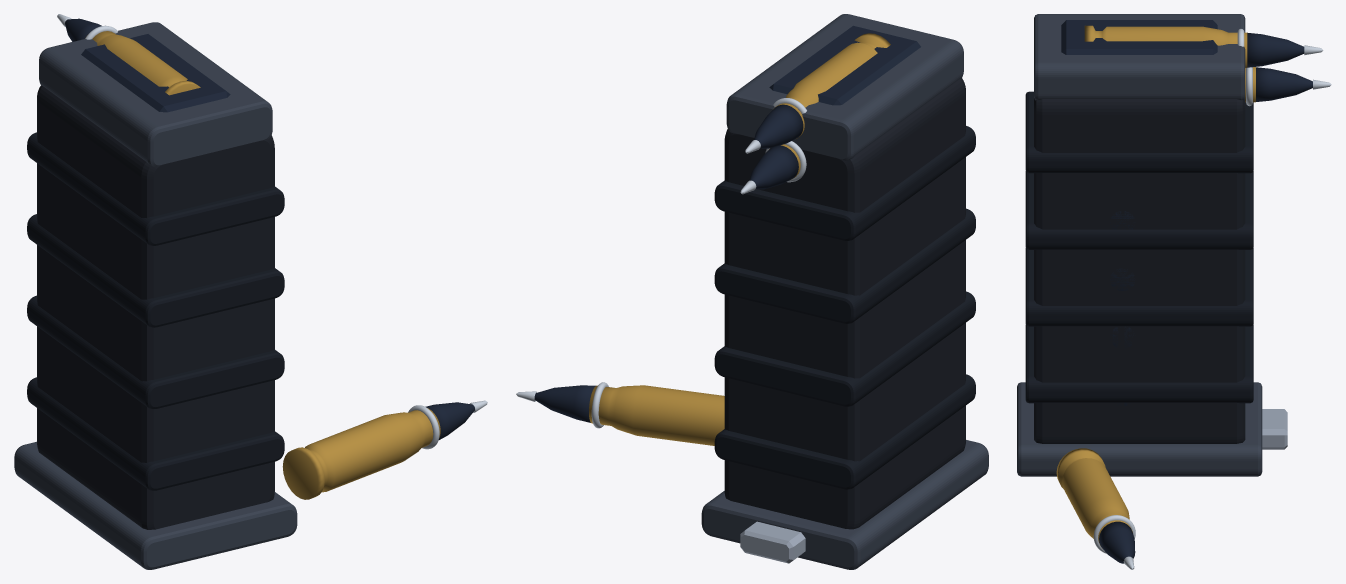
File: ammo_ap.glb
3 renders of one model, left to right at view 1: azimuth 30°, elevation 25°; view 2: azimuth 150°, elevation 25°; view 3: azimuth 270°, elevation 25°, orthographic. The views are drawn at different scales.
Visible parts, largest first — view 1: ammo_ap_mag, ammo_ap_lips, ammo_ap_base, ammo_ap_loose_case, ammo_ap_rib2, ammo_ap_rib0, ammo_ap_rib1, ammo_ap_rib3, ammo_ap_lip_cut, ammo_ap_top_case, ammo_ap_loose_tip; view 2: ammo_ap_mag, ammo_ap_lips, ammo_ap_base, ammo_ap_rib2, ammo_ap_rib0, ammo_ap_rib1, ammo_ap_rib3, ammo_ap_loose_case, ammo_ap_lip_cut, ammo_ap_top_case, ammo_ap_base_tab, ammo_ap_top_tip (+2 smaller); view 3: ammo_ap_mag, ammo_ap_lips, ammo_ap_base, ammo_ap_rib0, ammo_ap_rib1, ammo_ap_rib2, ammo_ap_rib3, ammo_ap_loose_case, ammo_ap_lip_cut, ammo_ap_top_case, ammo_ap_top_tip, ammo_ap_second_tip (+3 smaller).
Part boxes in pixels (bbox=[...]): ammo_ap_mag: bbox=[37, 86, 274, 529]; ammo_ap_lips: bbox=[39, 22, 272, 166]; ammo_ap_base: bbox=[14, 441, 297, 569]; ammo_ap_loose_case: bbox=[282, 408, 440, 499]; ammo_ap_rib2: bbox=[27, 214, 284, 327]; ammo_ap_rib0: bbox=[27, 377, 284, 490]; ammo_ap_rib1: bbox=[27, 295, 284, 409]; ammo_ap_rib3: bbox=[27, 132, 284, 245]; ammo_ap_lip_cut: bbox=[81, 34, 230, 112]; ammo_ap_top_case: bbox=[85, 31, 200, 95]; ammo_ap_loose_tip: bbox=[425, 402, 474, 439]; ammo_ap_mag: bbox=[724, 78, 965, 529]; ammo_ap_lips: bbox=[726, 14, 963, 160]; ammo_ap_base: bbox=[701, 440, 988, 569]; ammo_ap_rib2: bbox=[714, 208, 975, 323]; ammo_ap_rib0: bbox=[714, 374, 975, 489]; ammo_ap_rib1: bbox=[714, 291, 975, 406]; ammo_ap_rib3: bbox=[714, 126, 975, 240]; ammo_ap_loose_case: bbox=[589, 385, 724, 445]; ammo_ap_lip_cut: bbox=[769, 25, 920, 105]; ammo_ap_top_case: bbox=[773, 33, 890, 138]; ammo_ap_base_tab: bbox=[740, 521, 805, 563]; ammo_ap_top_tip: bbox=[754, 104, 803, 148]; ammo_ap_mag: bbox=[1034, 98, 1245, 443]; ammo_ap_lips: bbox=[1034, 14, 1245, 100]; ammo_ap_base: bbox=[1017, 382, 1262, 476]; ammo_ap_rib0: bbox=[1025, 324, 1253, 403]; ammo_ap_rib1: bbox=[1025, 248, 1253, 326]; ammo_ap_rib2: bbox=[1025, 171, 1253, 249]; ammo_ap_rib3: bbox=[1025, 91, 1253, 173]; ammo_ap_loose_case: bbox=[1056, 448, 1132, 548]; ammo_ap_lip_cut: bbox=[1061, 20, 1217, 54]; ammo_ap_top_case: bbox=[1084, 25, 1247, 67]; ammo_ap_top_tip: bbox=[1247, 32, 1304, 67]; ammo_ap_second_tip: bbox=[1256, 67, 1312, 101].
Size of the model in its own units: 0.1041 by 0.1088 by 0.0745.
